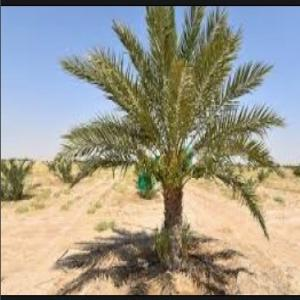palm tree: (56, 5, 287, 271)
